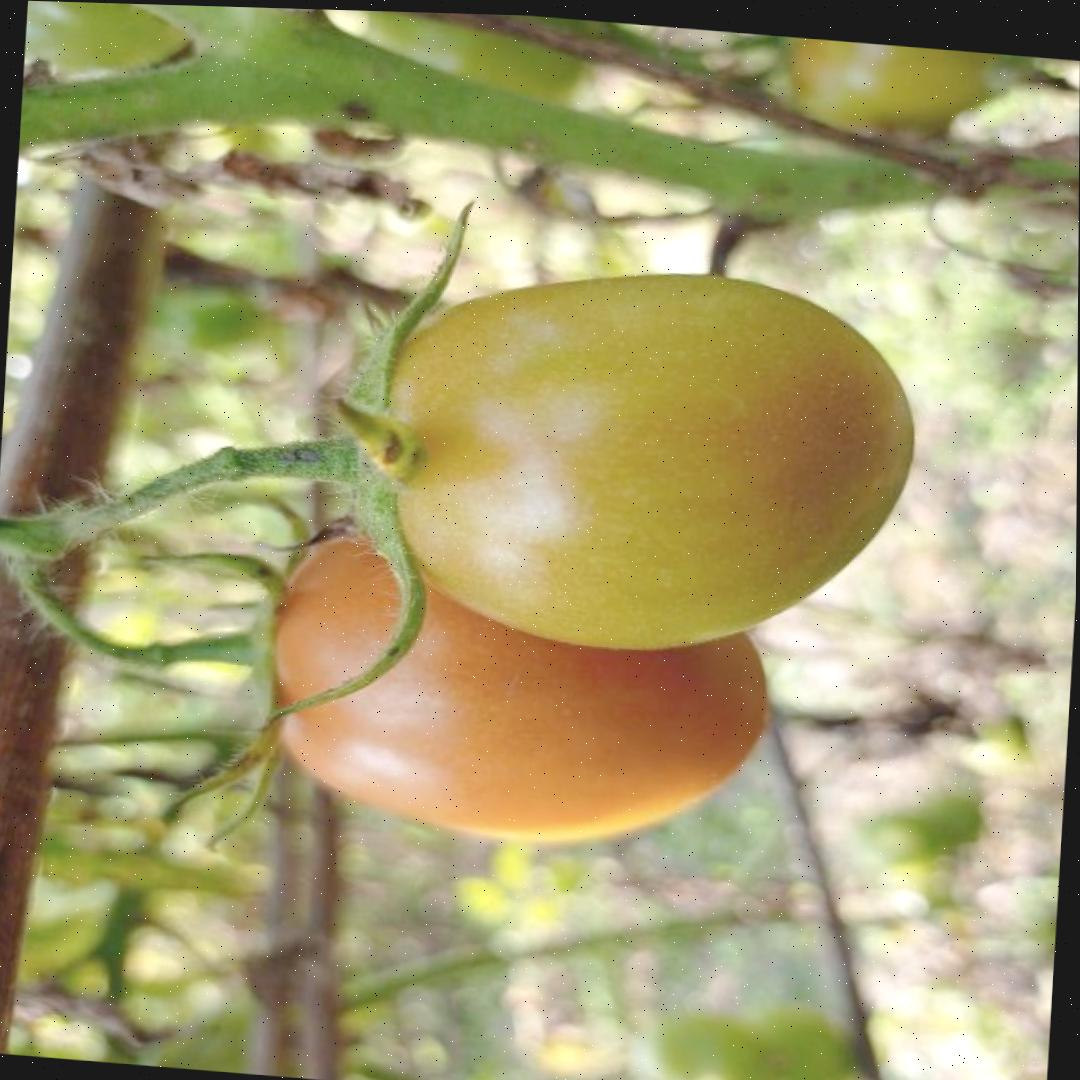setengah_matang: (338, 242, 929, 673), (244, 488, 784, 863)
